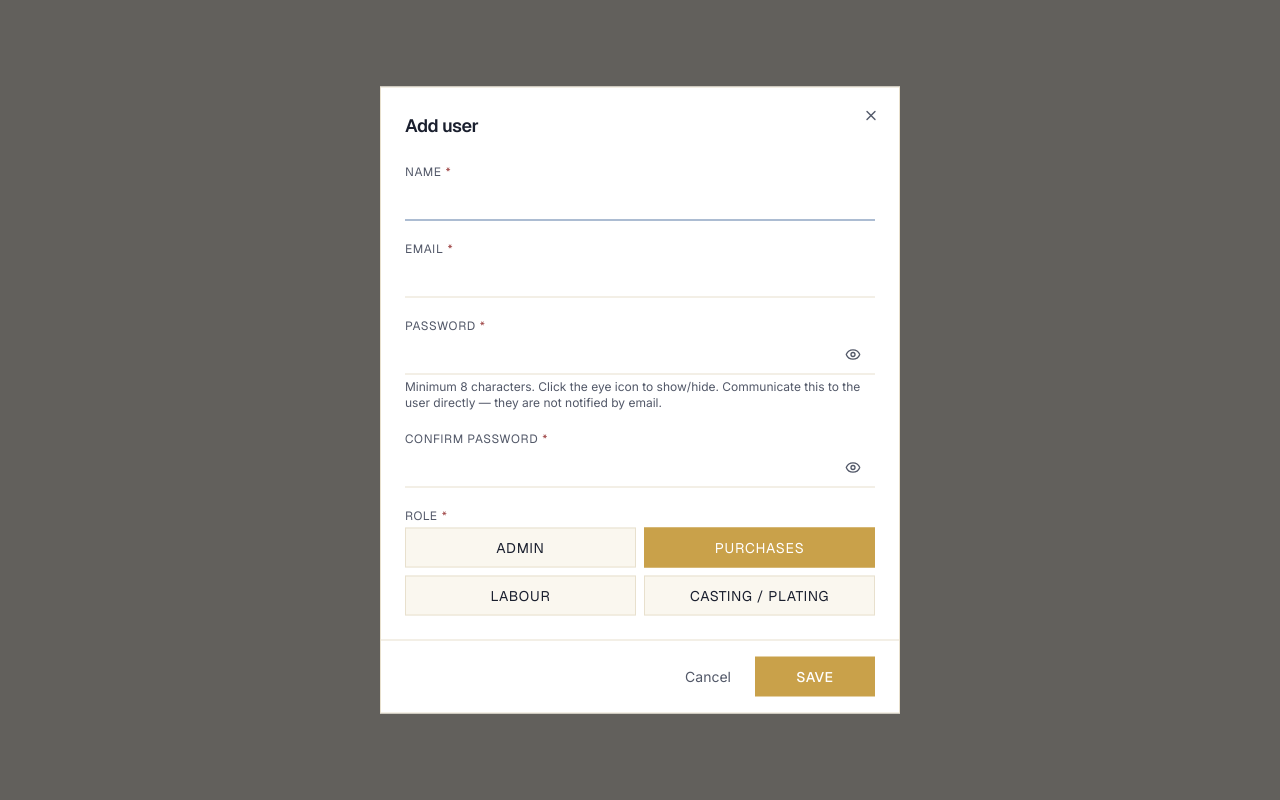
Test: UserFormModal — create mode › rejects when passwords don't match
The image size is (1280, 800).
Type "Alice" into the field labelled "Name*" at (640,200), box [405, 180, 875, 220]
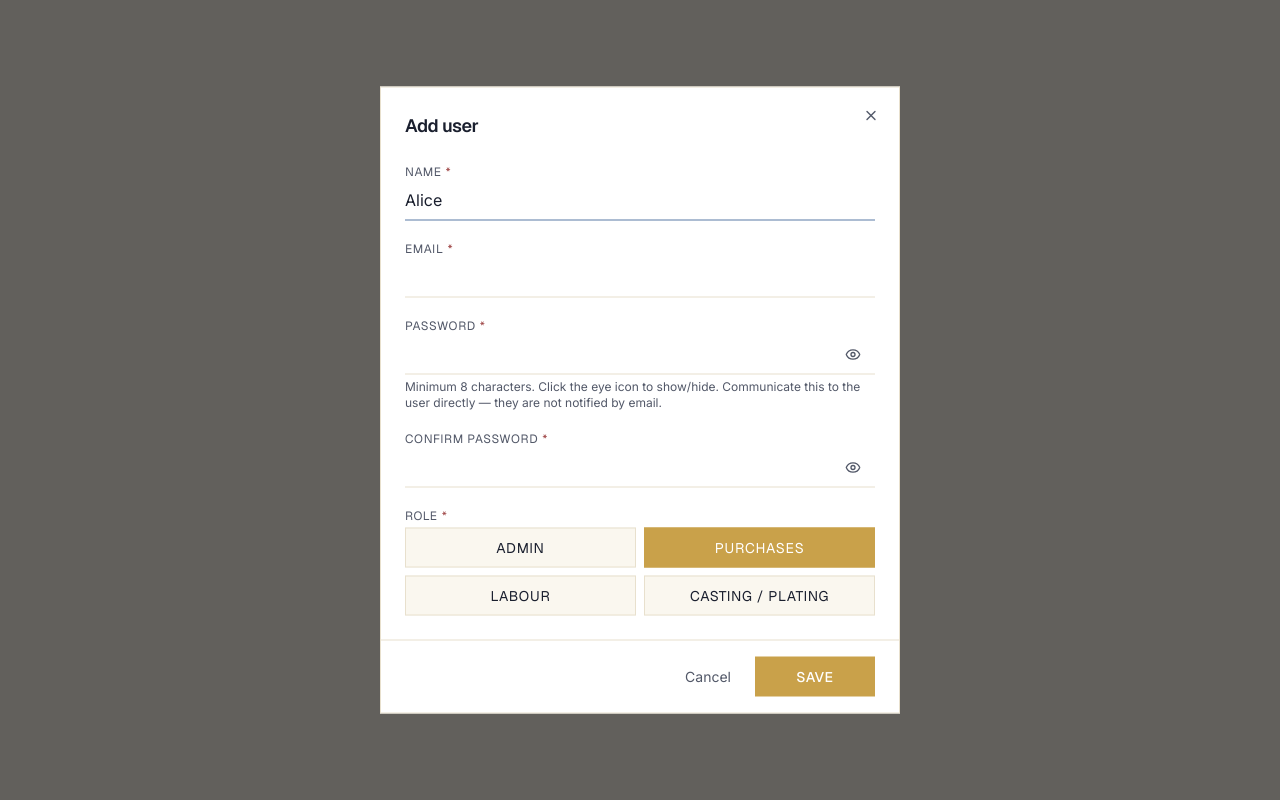
Type "a@b.com" into the field labelled "Email*" at (640,277), box [405, 256, 875, 298]
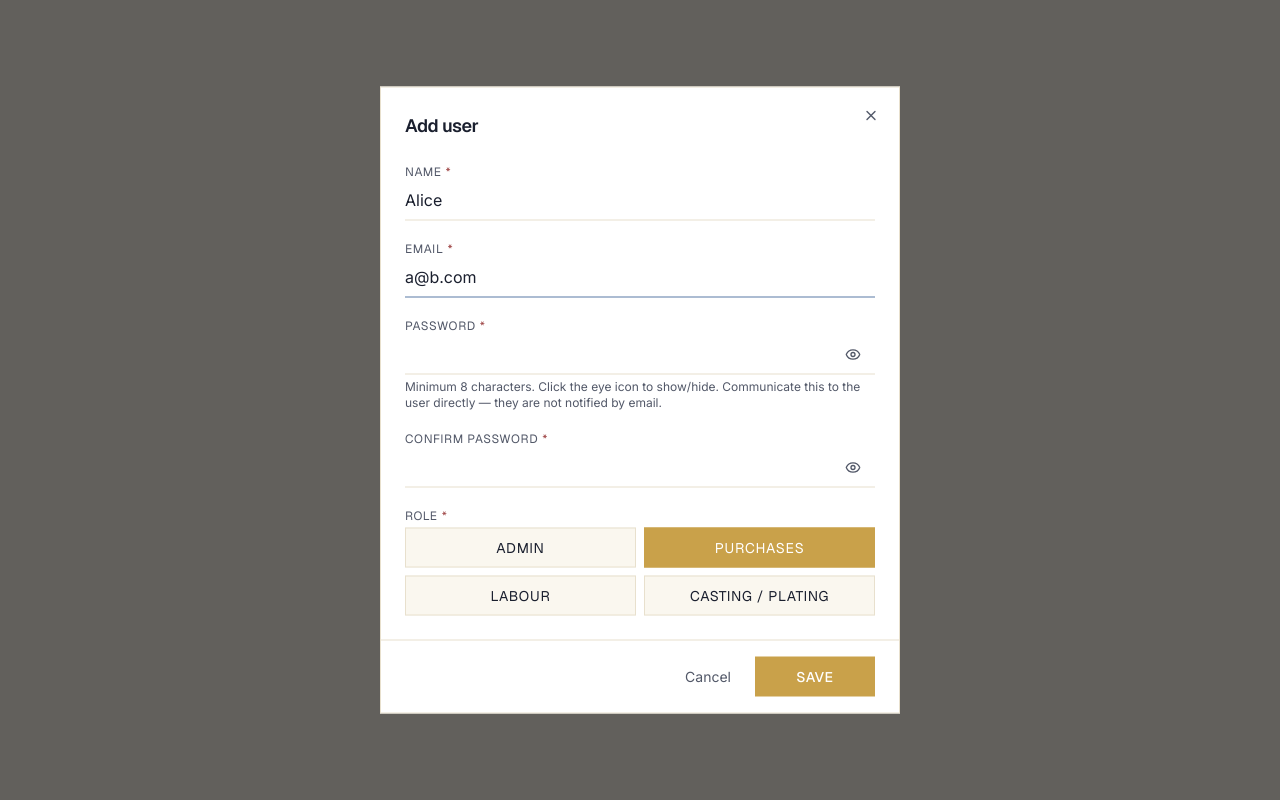
Type "longEnough12" into the password field labelled "Password*" at (640,354), box [405, 334, 875, 374]
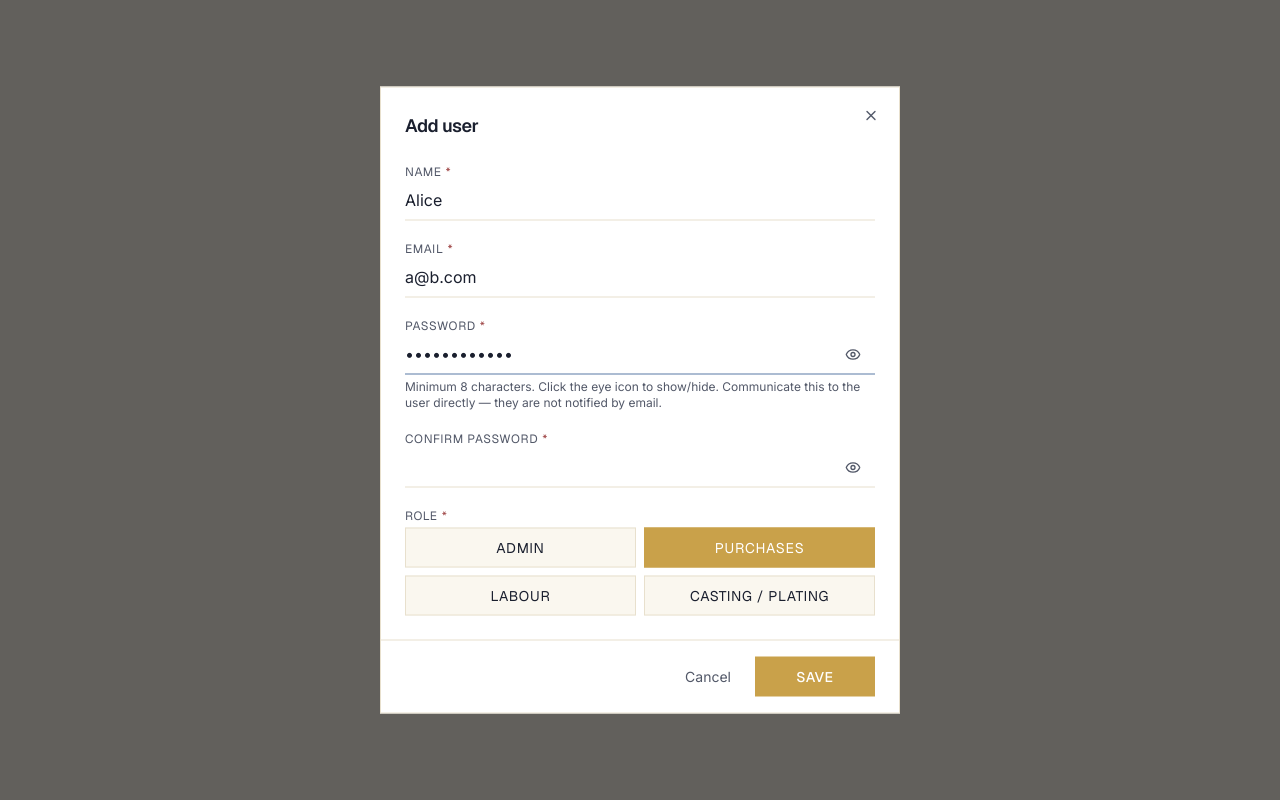
Type "different123" into the password field labelled "Confirm password*" at (640,467), box [405, 446, 875, 488]
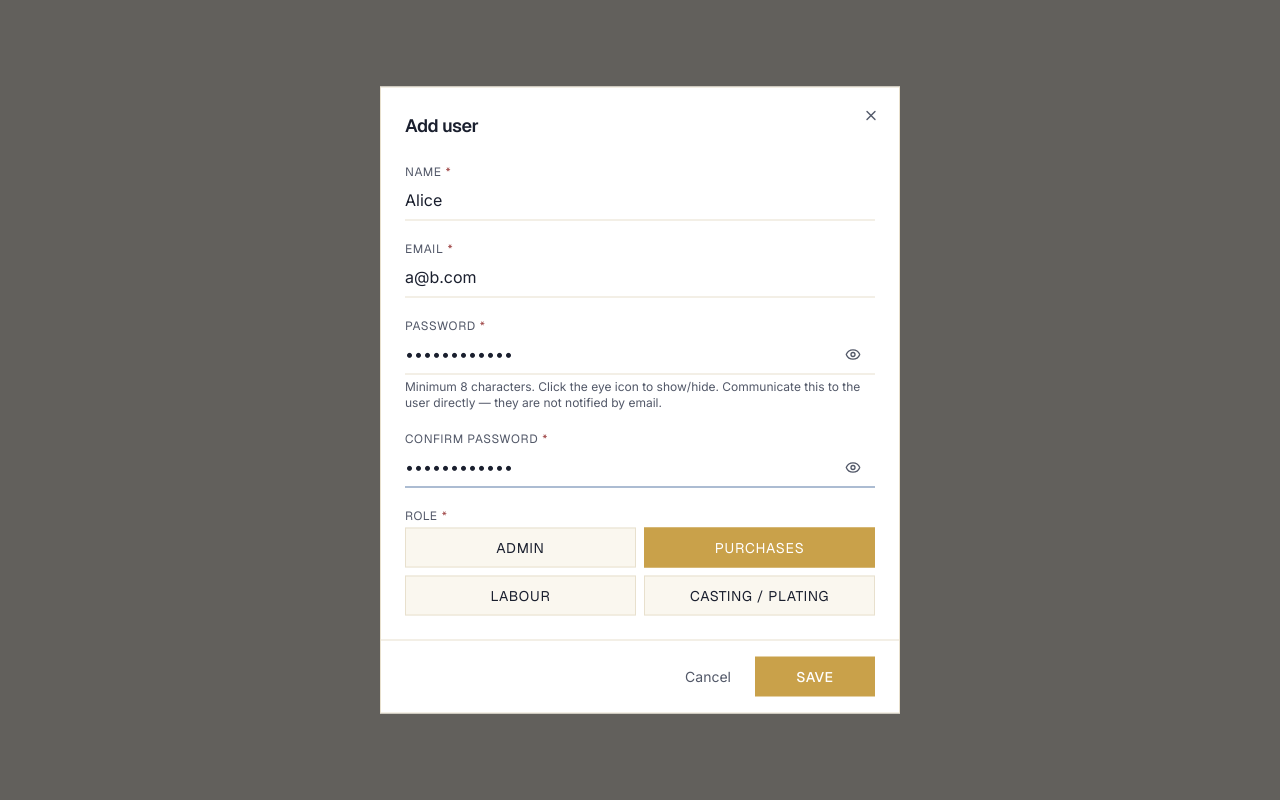
Click the button with test id "user-form-save" at (815,676), box [755, 656, 875, 696]
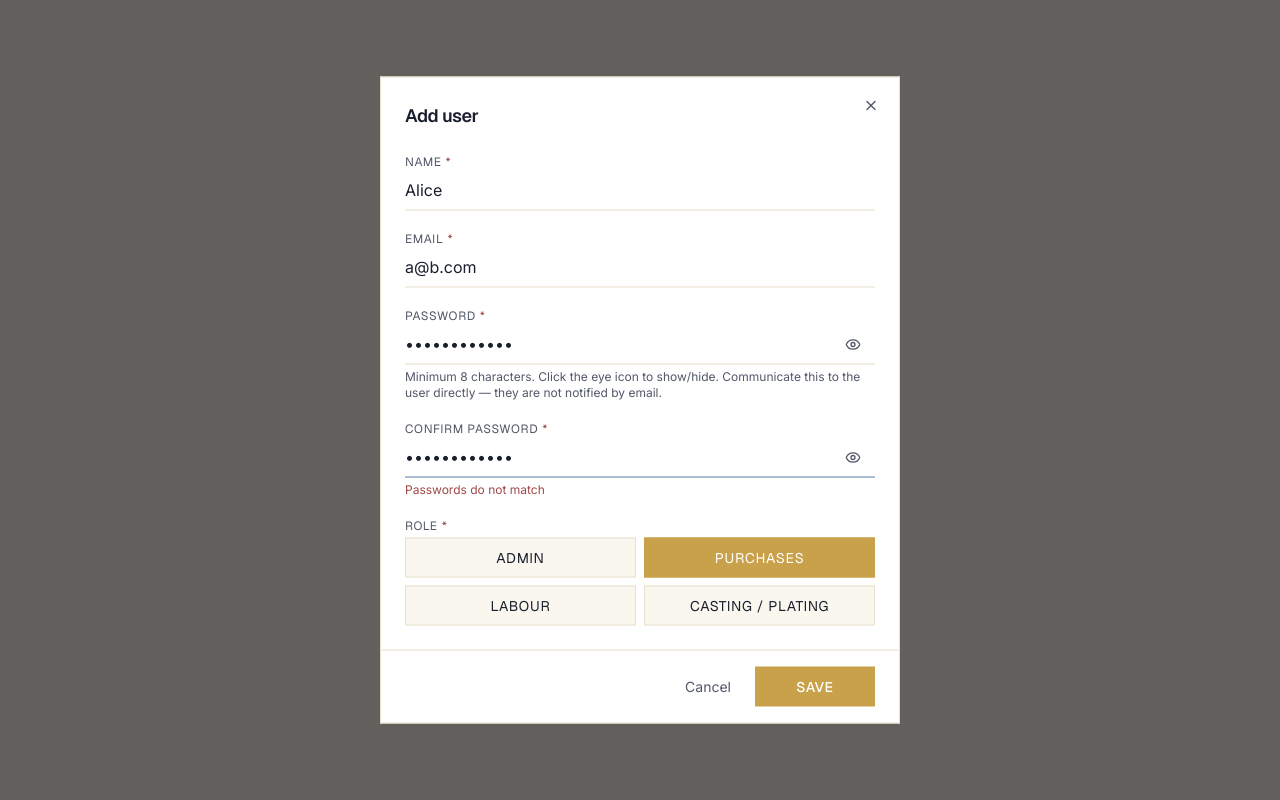
Expected: the text "Passwords do not match" is shown, [405, 482, 545, 496]
